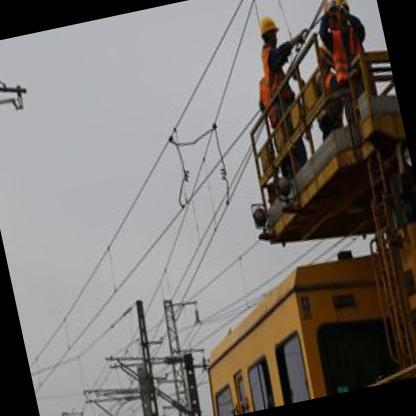helmet: (253, 8, 284, 53)
